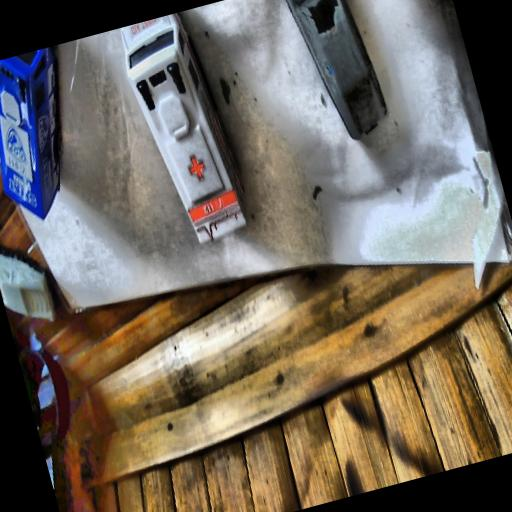ambulance: (114, 8, 254, 252)
normal_car: (278, 0, 392, 151), (0, 221, 59, 332)
police car: (0, 45, 97, 230)
